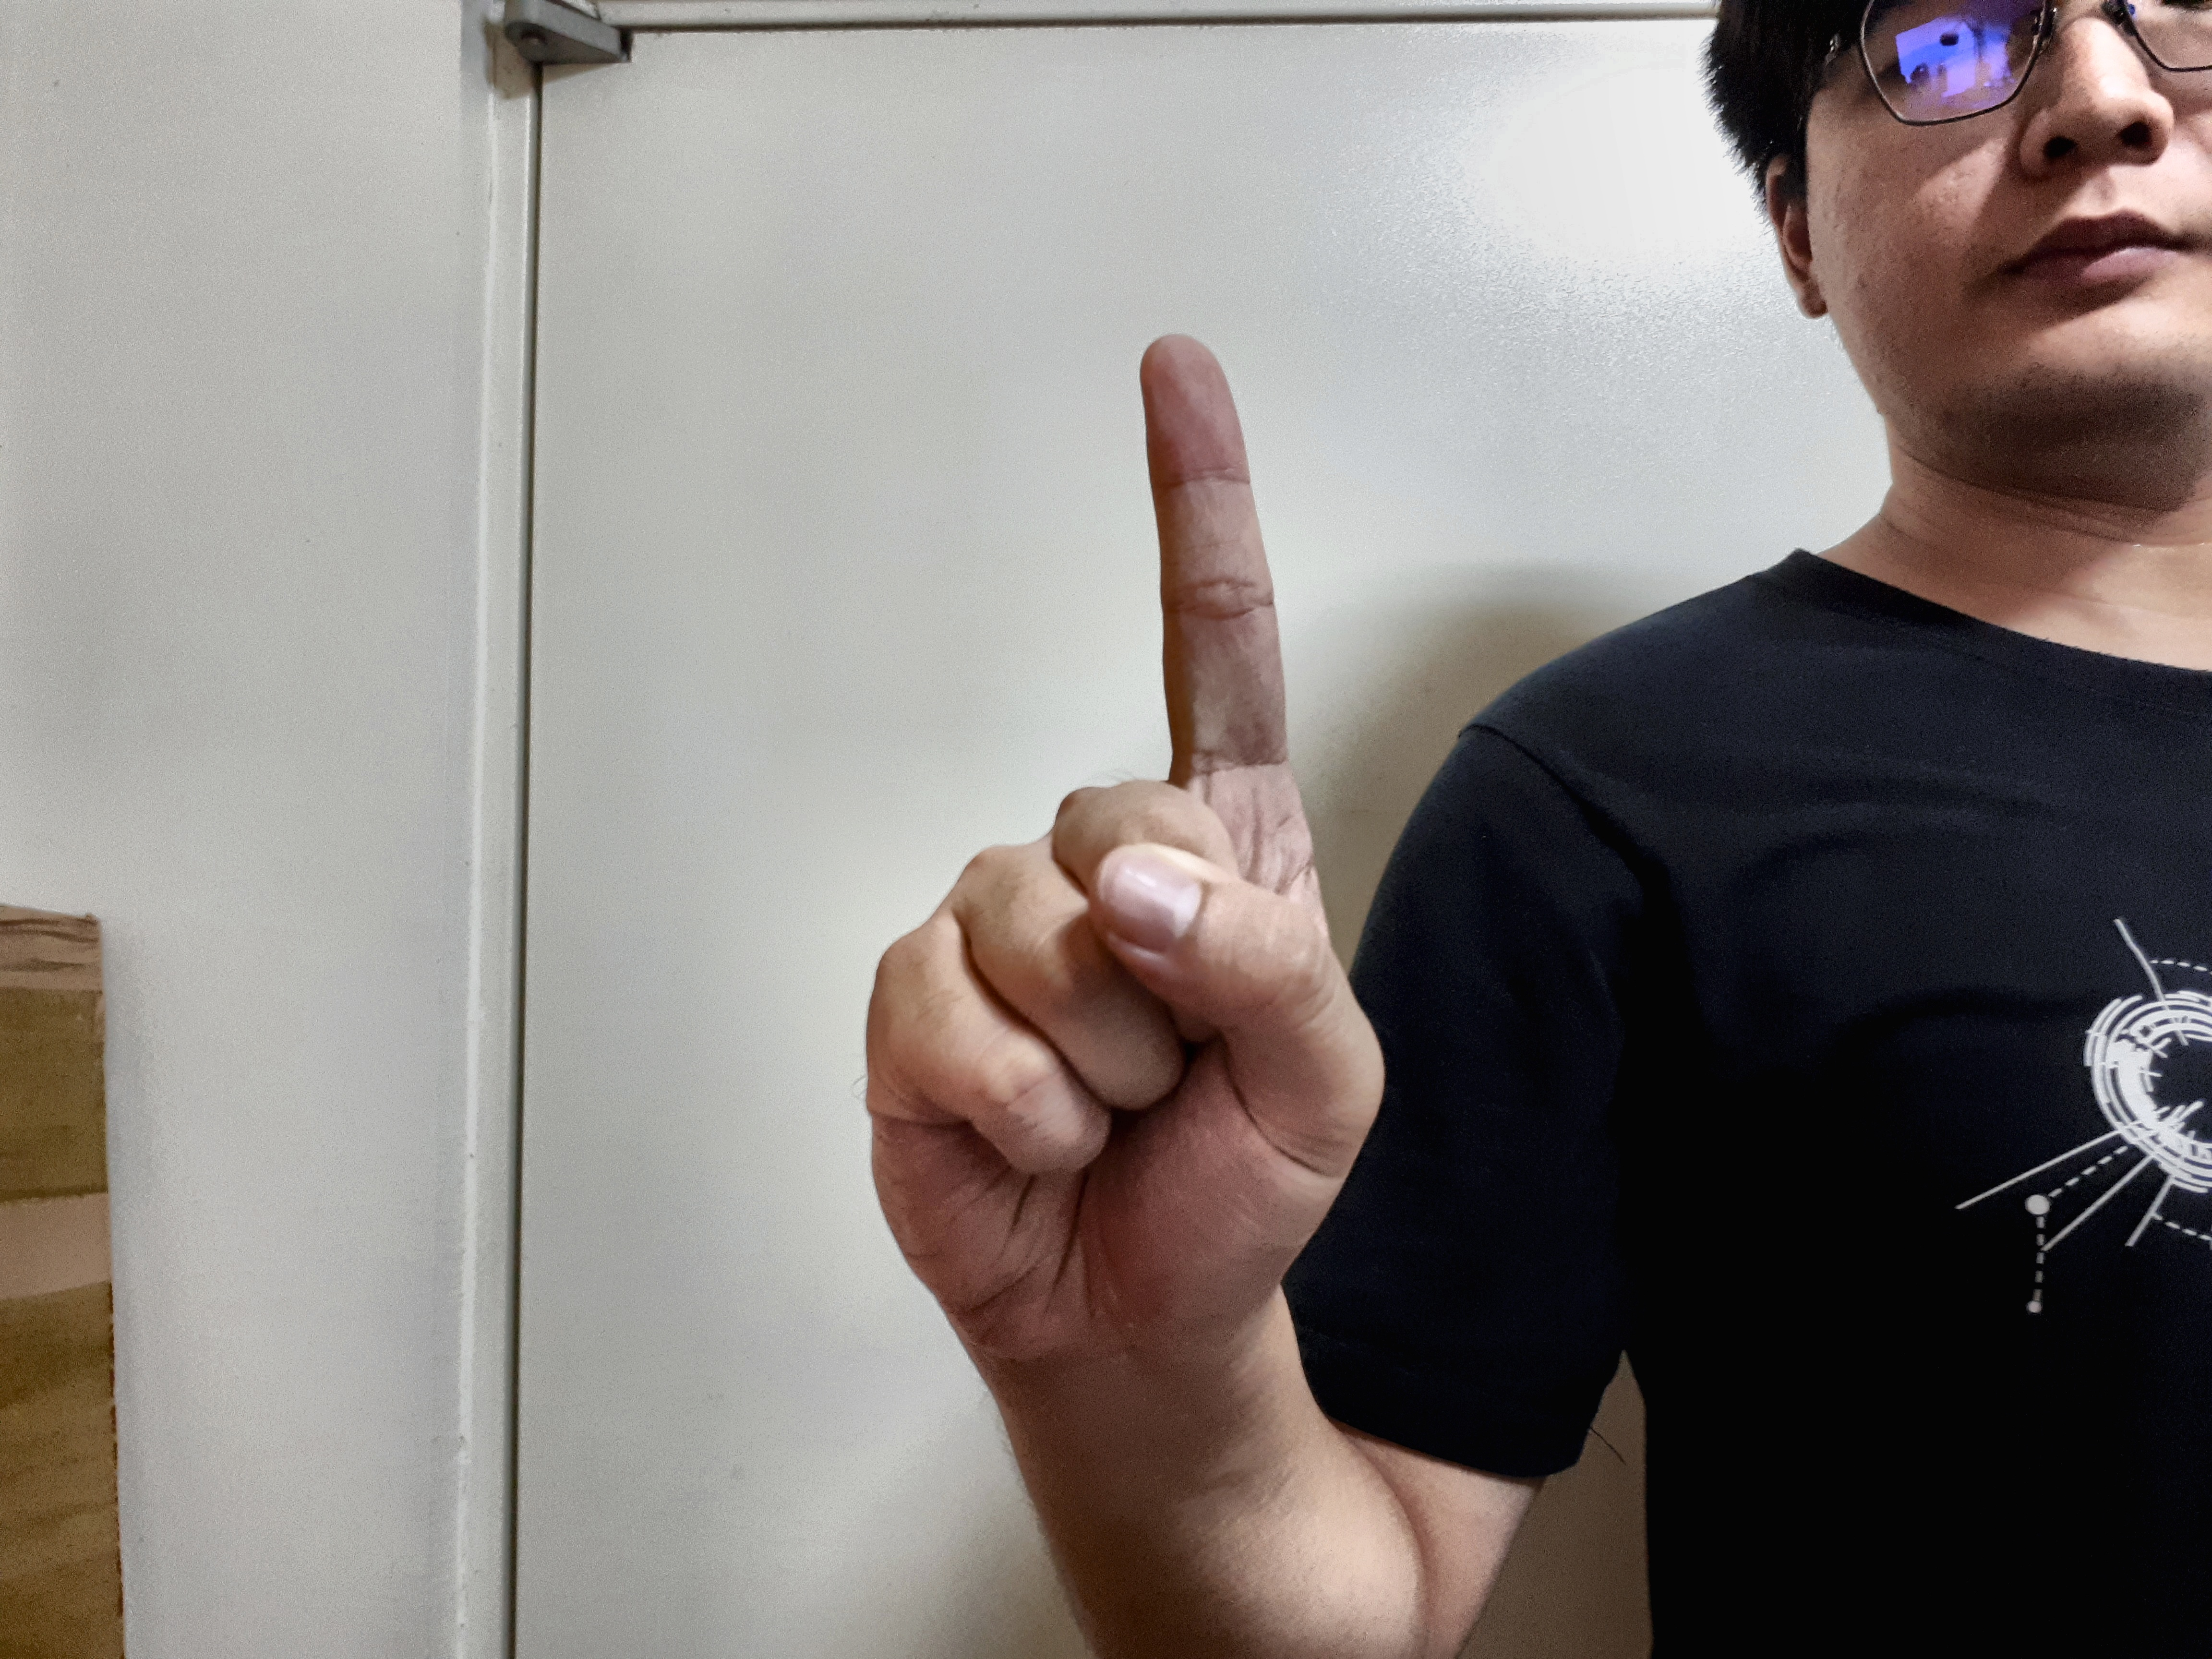up: (836, 321, 1411, 1387)
